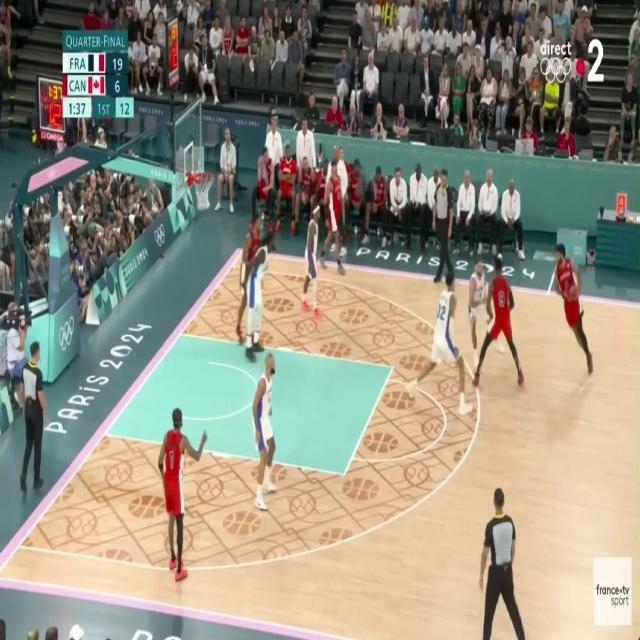ball_handler: (554, 243, 593, 375)
